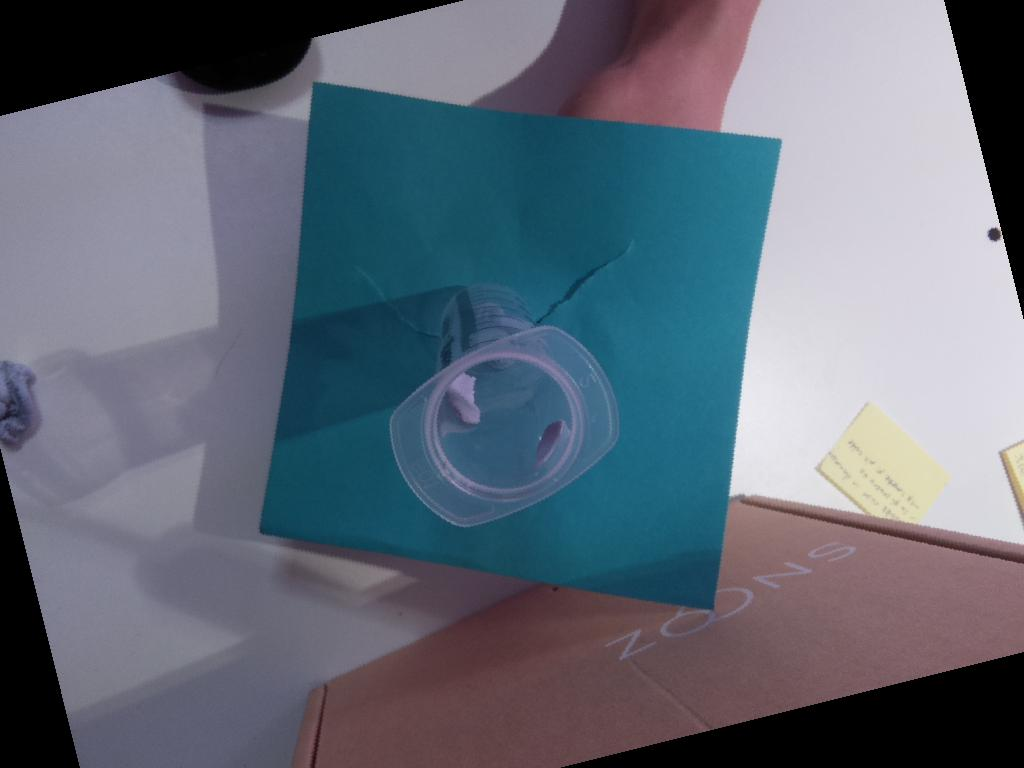dirty: (390, 325, 620, 527)
